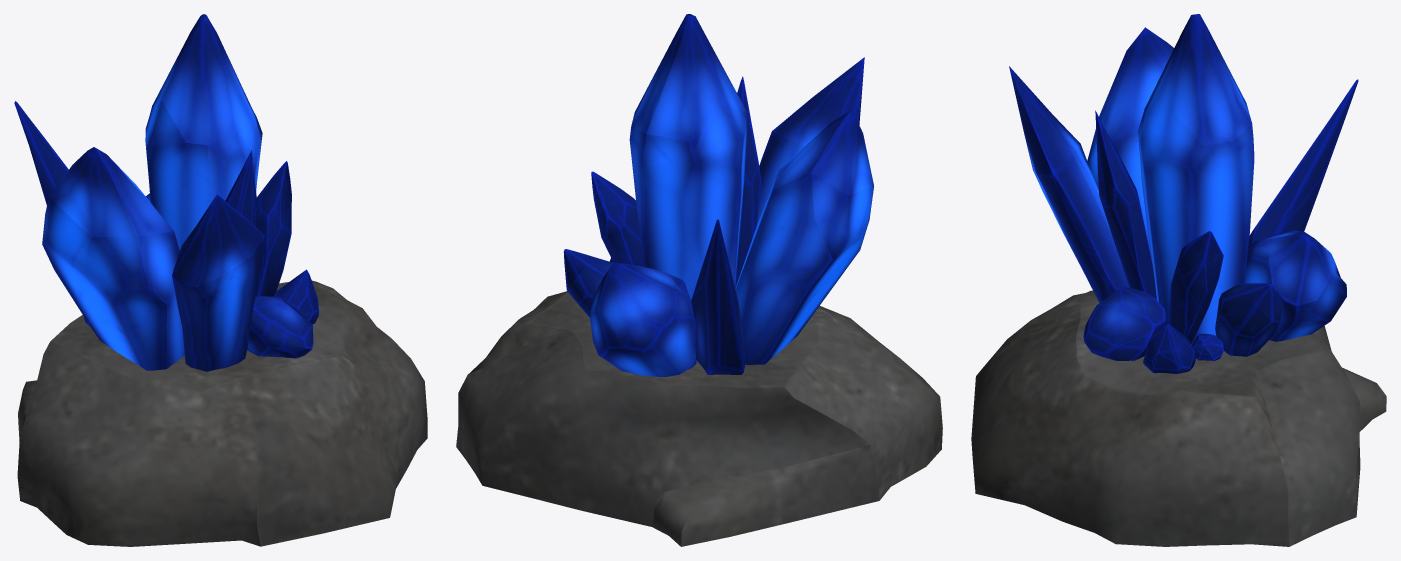
3 renders of one model, left to right at view 1: azimuth 30°, elevation 25°; view 2: azimuth 150°, elevation 25°; view 3: azimuth 270°, elevation 25°, orthographic.
Parts seen in each view (by area): view 1: Crystals_SM_M_Crystals_0.003, Crystals_SM_M_Crystals_0.010, Crystals_SM_M_Crystals_0.011, Crystals_SM_M_Crystals_0.002, Crystals_SM, Crystals_SM_M_Crystals_0.006, Crystals_SM_M_Crystals_0.008, Crystals_SM_M_Crystals_0.005, Crystals_SM_M_Crystals_0.001; view 2: Crystals_SM_M_Crystals_0.003, Crystals_SM_M_Crystals_0.011, Crystals_SM_M_Crystals_0.010, Crystals_SM_M_Crystals_0.007, Crystals_SM_M_Crystals_0.008, Crystals_SM_M_Crystals_0.002, Crystals_SM, Crystals_SM_M_Crystals_0.001, Crystals_SM_M_Crystals_0.004; view 3: Crystals_SM_M_Crystals_0.003, Crystals_SM_M_Crystals_0.011, Crystals_SM_M_Crystals_0.002, Crystals_SM_M_Crystals_0.007, Crystals_SM_M_Crystals_0.010, Crystals_SM_M_Crystals_0.001, Crystals_SM_M_Crystals_0.008, Crystals_SM_M_Crystals_0.006, Crystals_SM_M_Crystals_0.004, Crystals_SM, Crystals_SM_M_Crystals_0.005, Crystals_SM_M_Crystals_0.009.
Part boxes in pixels (x1,y1,x2,y2): Crystals_SM_M_Crystals_0.003: (17, 280, 427, 546); Crystals_SM_M_Crystals_0.010: (42, 147, 184, 370); Crystals_SM_M_Crystals_0.011: (145, 14, 262, 250); Crystals_SM_M_Crystals_0.002: (172, 194, 264, 371); Crystals_SM: (255, 161, 291, 296); Crystals_SM_M_Crystals_0.006: (247, 296, 313, 358); Crystals_SM_M_Crystals_0.008: (14, 101, 90, 326); Crystals_SM_M_Crystals_0.005: (273, 269, 318, 324); Crystals_SM_M_Crystals_0.001: (225, 150, 257, 228); Crystals_SM_M_Crystals_0.003: (456, 291, 942, 546); Crystals_SM_M_Crystals_0.011: (629, 14, 747, 300); Crystals_SM_M_Crystals_0.010: (735, 109, 873, 364); Crystals_SM_M_Crystals_0.007: (588, 263, 696, 376); Crystals_SM_M_Crystals_0.008: (691, 219, 745, 374); Crystals_SM_M_Crystals_0.002: (757, 57, 864, 224); Crystals_SM: (591, 171, 644, 267); Crystals_SM_M_Crystals_0.001: (735, 76, 761, 287); Crystals_SM_M_Crystals_0.004: (563, 249, 614, 317); Crystals_SM_M_Crystals_0.003: (971, 290, 1386, 546); Crystals_SM_M_Crystals_0.011: (1138, 14, 1254, 343); Crystals_SM_M_Crystals_0.002: (1009, 66, 1129, 302); Crystals_SM_M_Crystals_0.007: (1244, 230, 1346, 341); Crystals_SM_M_Crystals_0.010: (1087, 27, 1173, 255); Crystals_SM_M_Crystals_0.001: (1095, 110, 1156, 299); Crystals_SM_M_Crystals_0.008: (1248, 79, 1358, 245); Crystals_SM_M_Crystals_0.006: (1083, 286, 1165, 360); Crystals_SM_M_Crystals_0.004: (1215, 283, 1282, 356); Crystals_SM: (1169, 231, 1223, 343); Crystals_SM_M_Crystals_0.005: (1143, 324, 1195, 373); Crystals_SM_M_Crystals_0.009: (1192, 333, 1224, 360).
Bounding box in the file's own units: 0.3579 × 0.4051 × 0.3426.
1 material, 1 textured.
